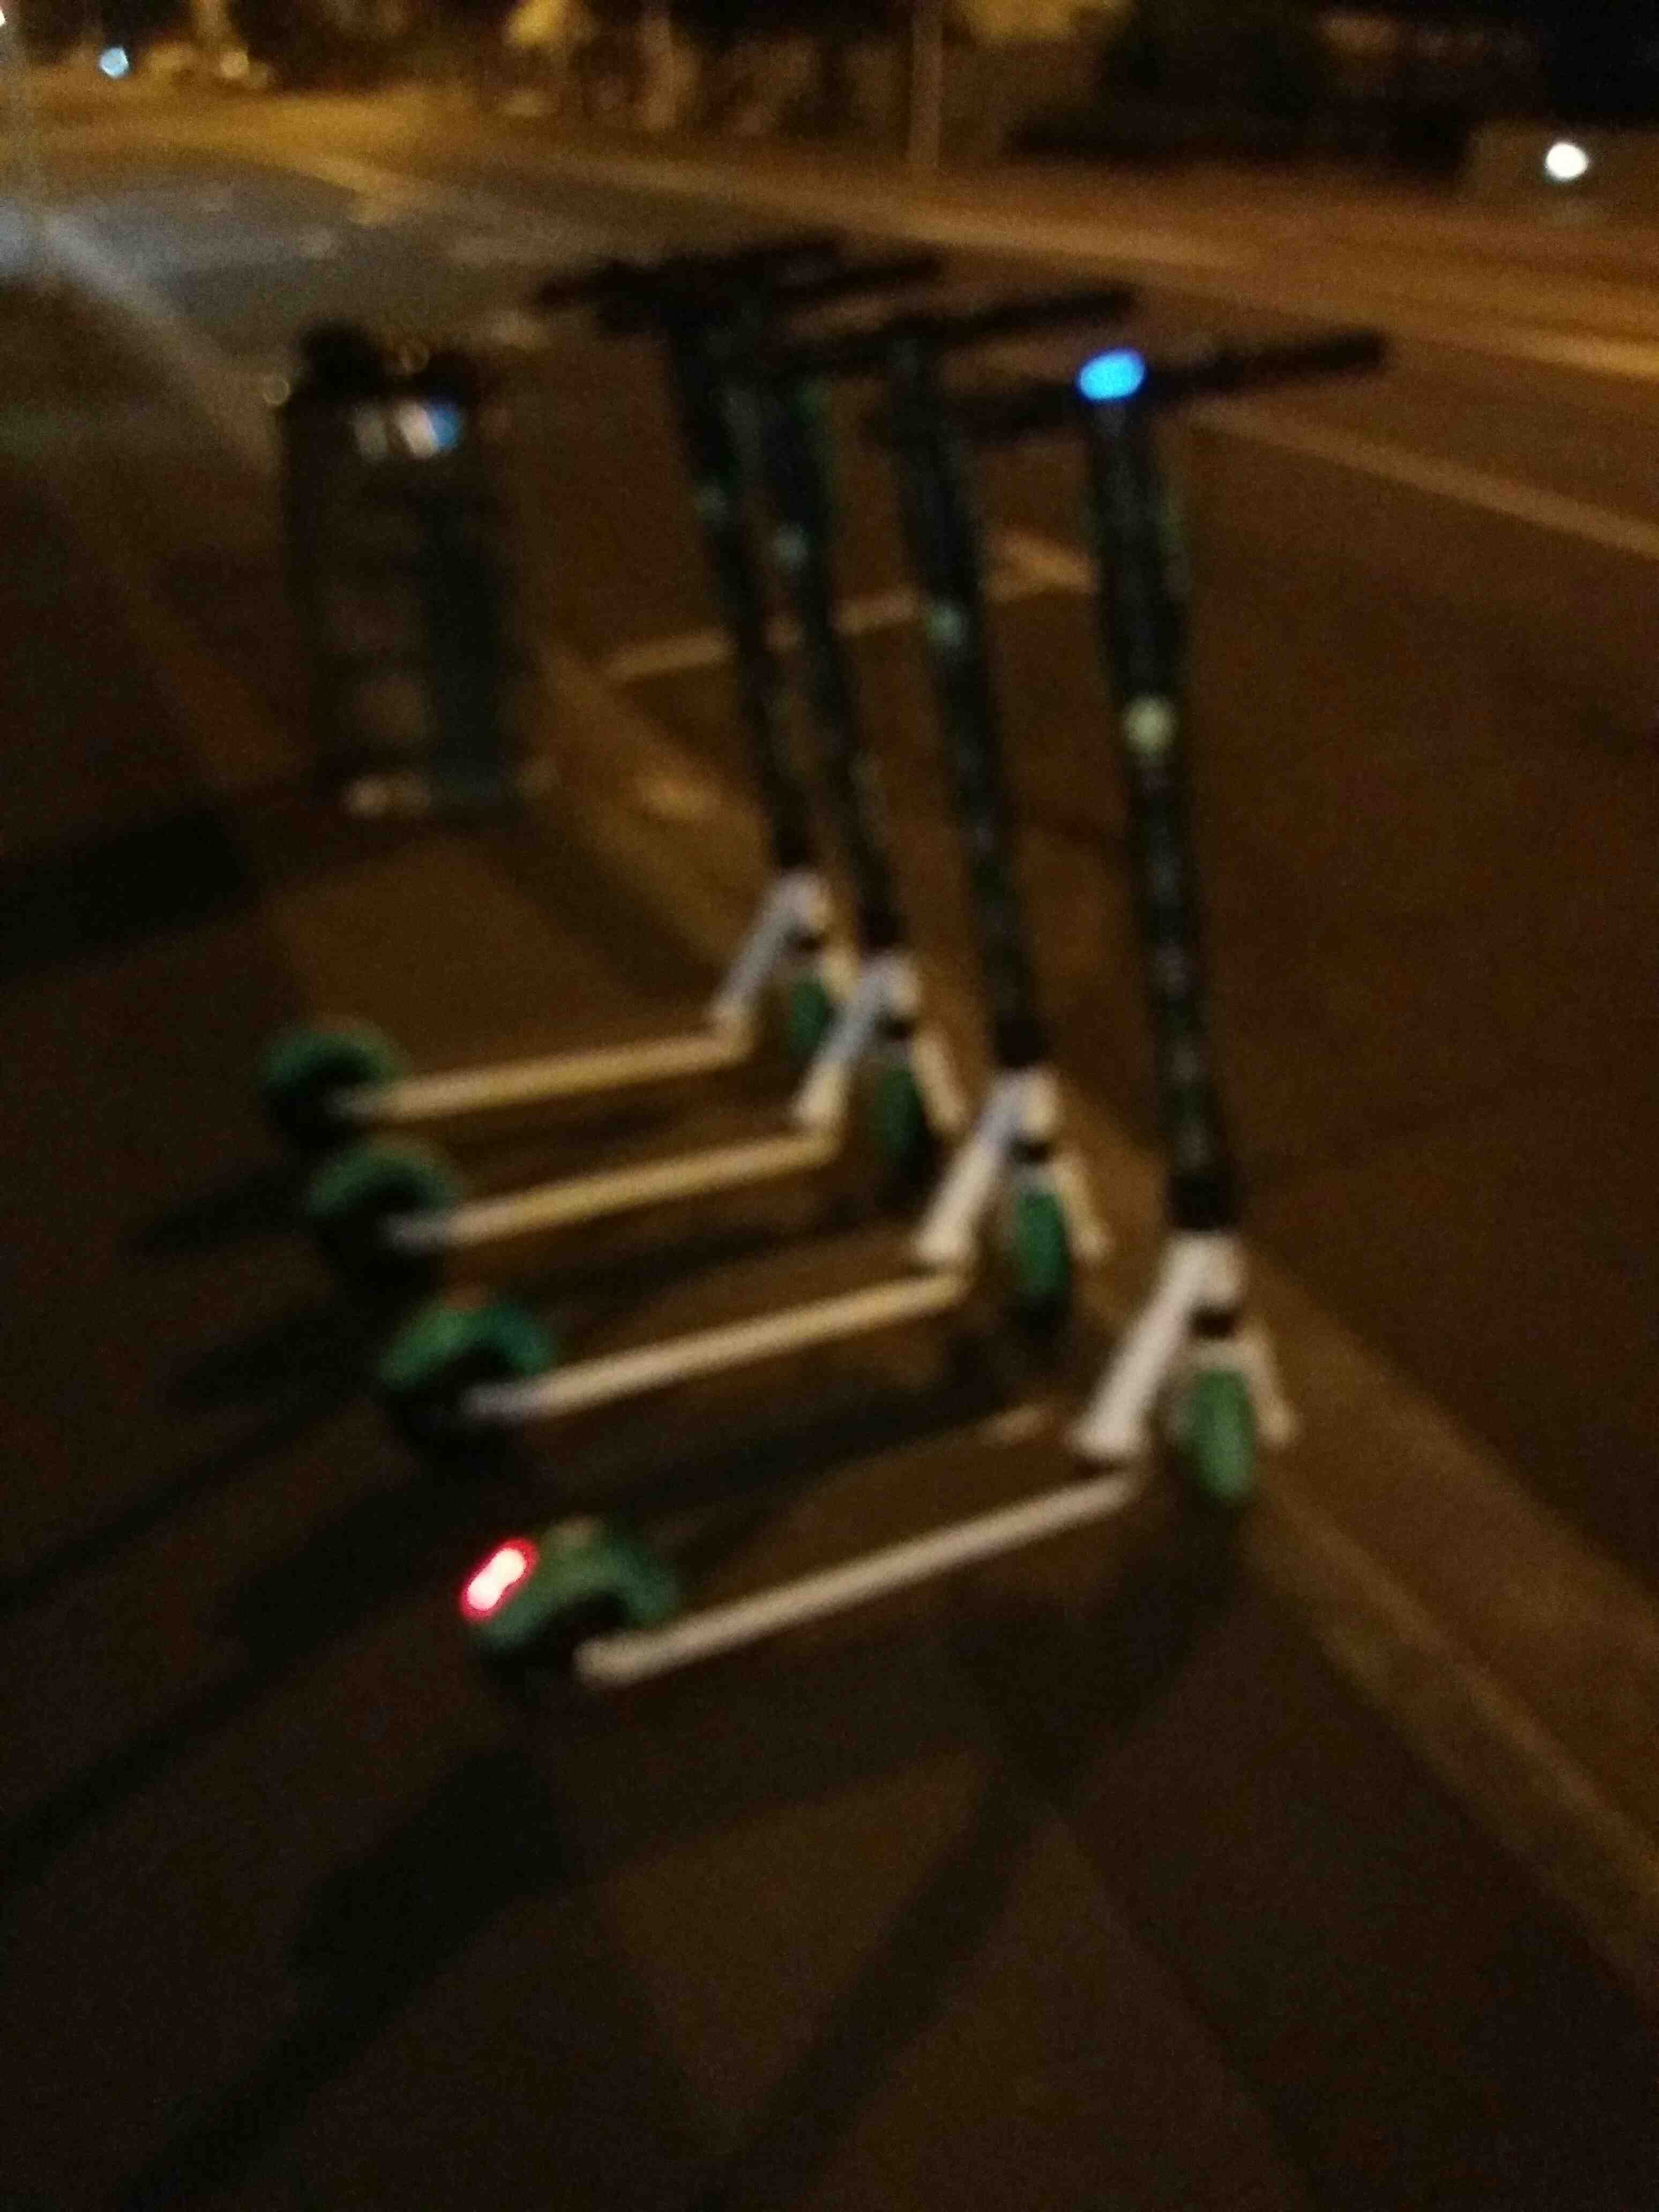too close: (1122, 1284, 1378, 1568), (688, 846, 924, 1115), (913, 1148, 1162, 1397)
